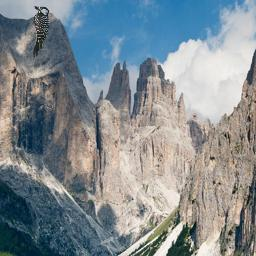Woodpecker: (32, 5, 50, 58)
